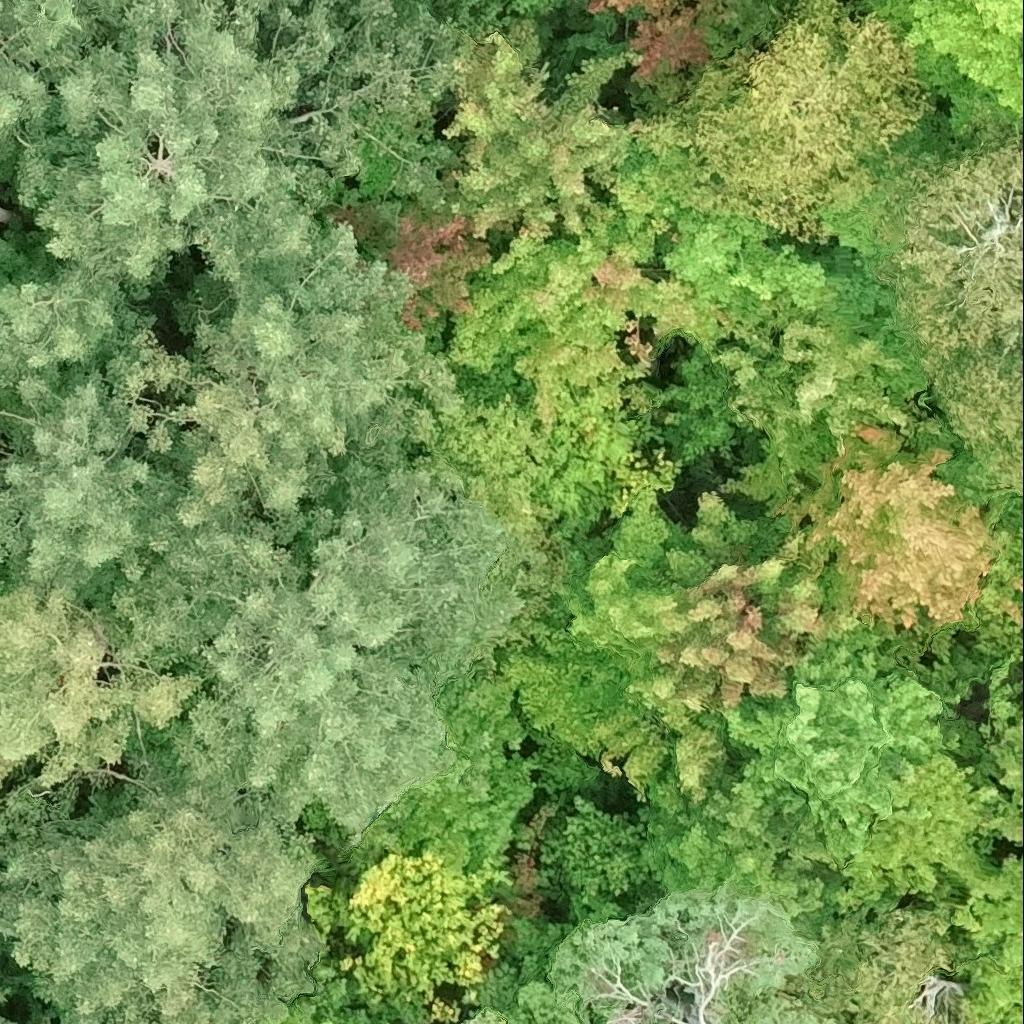crown: (91, 476, 503, 855), (3, 0, 468, 308), (508, 484, 884, 796), (154, 229, 462, 546), (721, 647, 991, 917), (0, 807, 319, 1023), (651, 0, 933, 240), (593, 130, 879, 358), (450, 201, 737, 421), (757, 413, 1009, 663), (716, 297, 930, 503), (0, 382, 185, 619), (445, 31, 645, 240), (548, 884, 836, 1023), (0, 591, 191, 795), (0, 233, 193, 422), (885, 135, 1023, 363), (648, 774, 849, 925), (818, 109, 975, 278), (349, 856, 506, 1023), (855, 0, 1023, 155), (786, 905, 964, 1023), (935, 334, 1023, 491), (541, 797, 654, 912), (590, 0, 739, 75), (950, 901, 1023, 1023), (980, 683, 1023, 849), (0, 0, 53, 132), (964, 857, 1023, 959), (471, 1009, 504, 1023)
